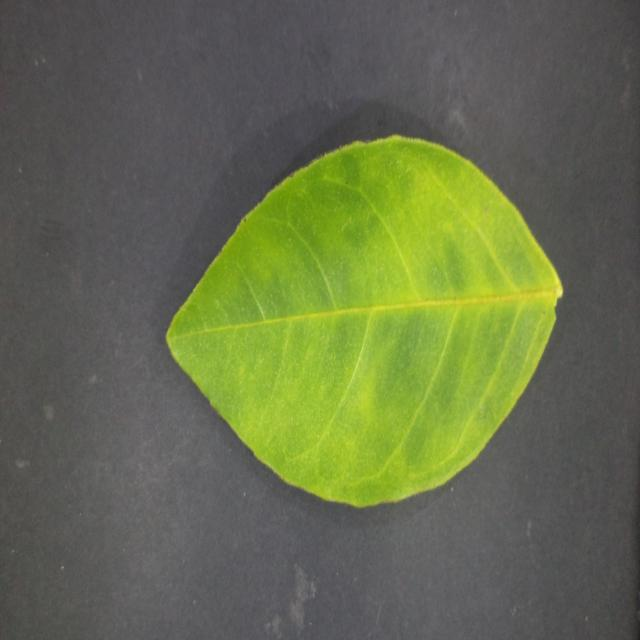greening: (166, 137, 562, 505)
